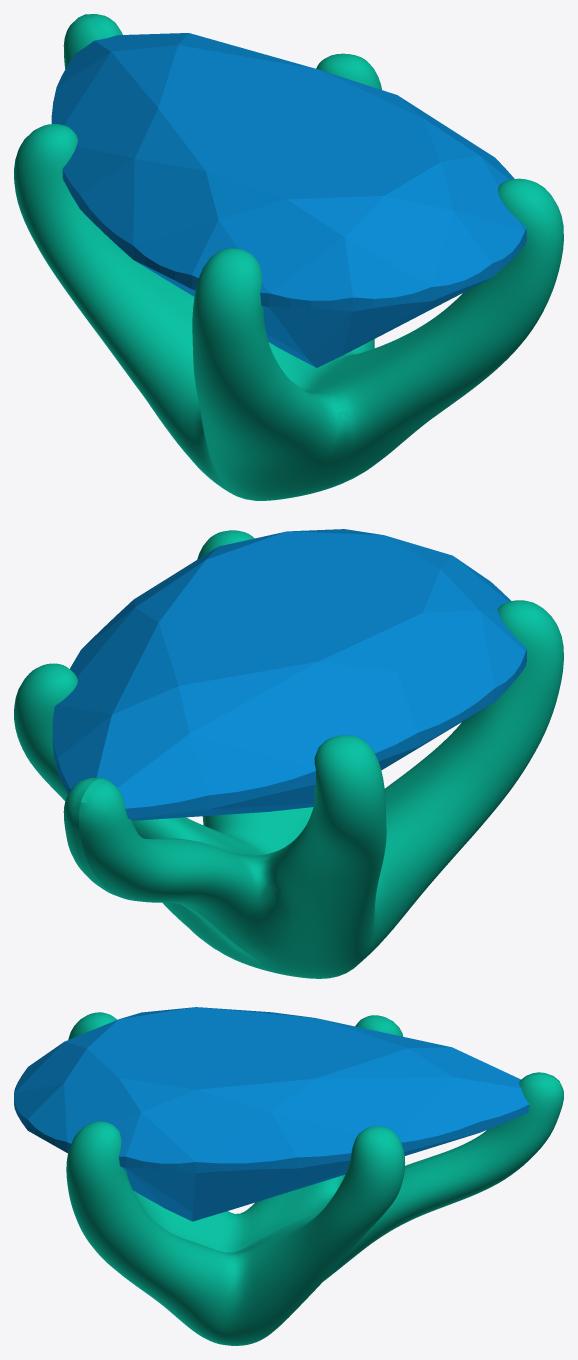
Rendered from pear.glb.
3 renders of one model, top to bottom at view 1: azimuth 30°, elevation 25°; view 2: azimuth 150°, elevation 25°; view 3: azimuth 270°, elevation 25°, orthographic. The views are drawn at different scales.
Visible parts, largest first — view 1: DIA-PEAHD-B1-1, MTL-HEAD-1 (×2); view 2: DIA-PEAHD-B1-1, MTL-HEAD-1 (×2); view 3: DIA-PEAHD-B1-1, MTL-HEAD-1 (×2).
Part boxes in pixels (box(x1,y1,x2,y2)): DIA-PEAHD-B1-1: box(51, 33, 526, 367); MTL-HEAD-1 (×2): box(14, 14, 563, 500); DIA-PEAHD-B1-1: box(52, 529, 526, 820); MTL-HEAD-1 (×2): box(14, 530, 563, 978); DIA-PEAHD-B1-1: box(14, 1007, 529, 1221); MTL-HEAD-1 (×2): box(66, 1012, 563, 1345).
Size of the model in its own units: 6.76 by 6.41 by 11.39.
